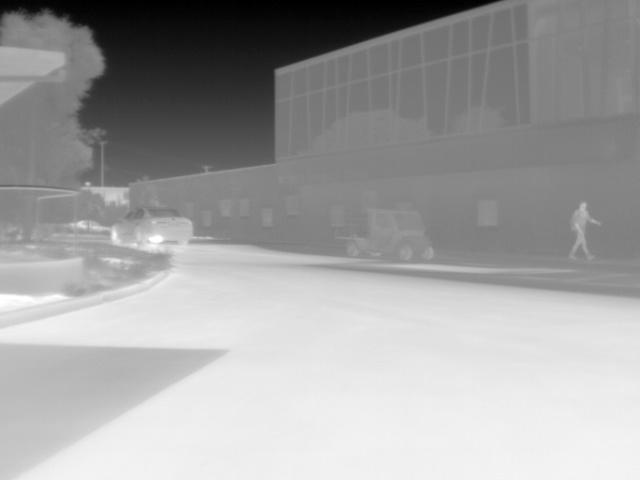car: (109, 202, 196, 248), (65, 218, 112, 234)
person: (566, 198, 603, 262)
